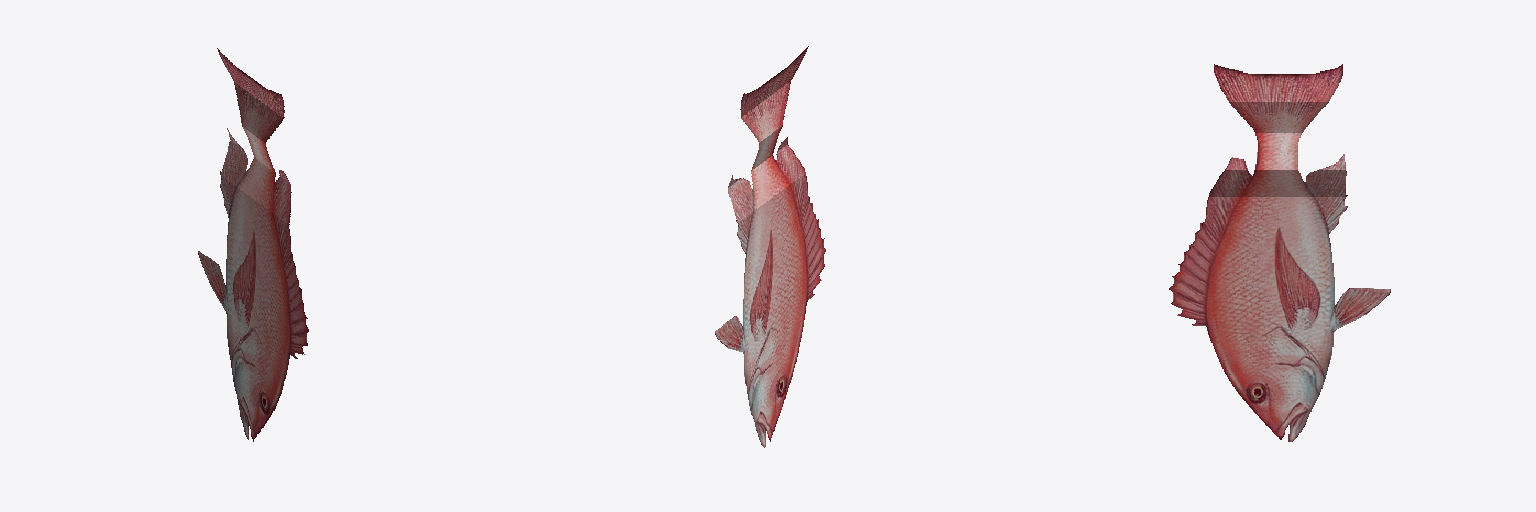
3 renders of one model, left to right at view 1: azimuth 30°, elevation 25°; view 2: azimuth 150°, elevation 25°; view 3: azimuth 270°, elevation 25°, orthographic.
Size of the model in its own units: 0.0835 by 1.97 by 1.06.
Materials: 1 (1 with a texture image).